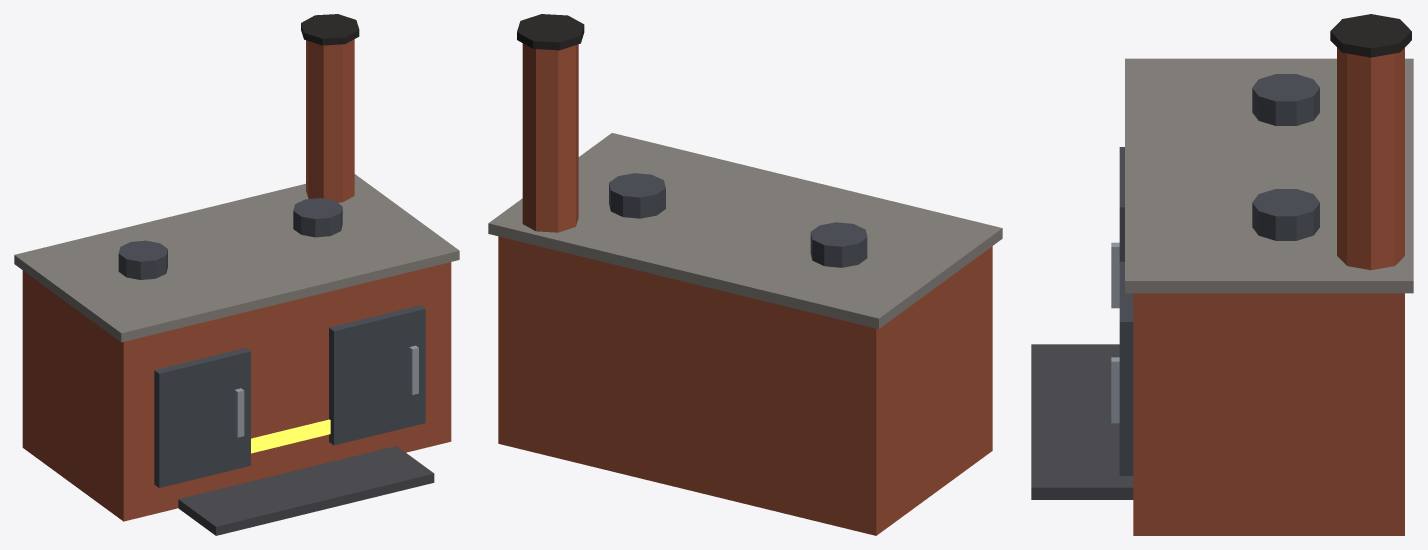
Rendered from CokeOven@Door0Open.fbx.
3 views of the same model, side by side, from view 1: azimuth 30°, elevation 25°; view 2: azimuth 150°, elevation 25°; view 3: azimuth 270°, elevation 25° (orthographic). The views are drawn at different scales.
Visible parts, largest first — view 1: CokeOven_Body, CokeOven_Door_0, CokeOven_Door_1, CokeOven_Glow_Running; view 2: CokeOven_Body; view 3: CokeOven_Body, CokeOven_Door_1, CokeOven_Door_0.
Part boxes in pixels (x1=…): CokeOven_Body: x1=14, y1=14, x2=459, y2=535; CokeOven_Door_0: x1=154, y1=348, x2=250, y2=487; CokeOven_Door_1: x1=329, y1=305, x2=425, y2=445; CokeOven_Glow_Running: x1=251, y1=419, x2=330, y2=453; CokeOven_Body: x1=488, y1=14, x2=1002, y2=535; CokeOven_Body: x1=1031, y1=14, x2=1413, y2=535; CokeOven_Door_1: x1=1111, y1=261, x2=1133, y2=475; CokeOven_Door_0: x1=1111, y1=147, x2=1124, y2=308.
Size of the model in its own units: 1.55 by 1.57 by 1.13.
